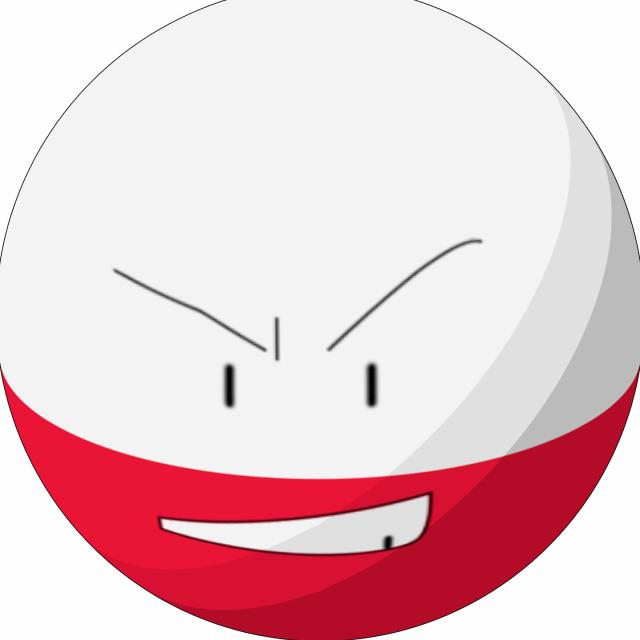Electrode: (5, 5, 640, 633)
